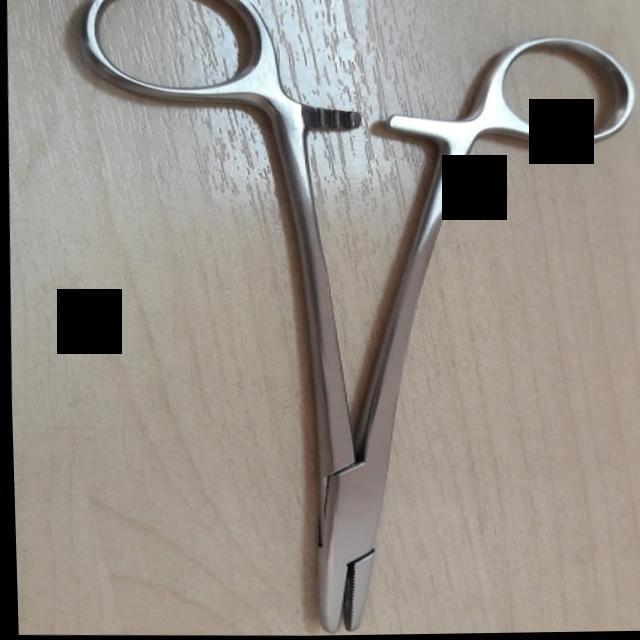Needle Holder: (51, 0, 640, 639)
